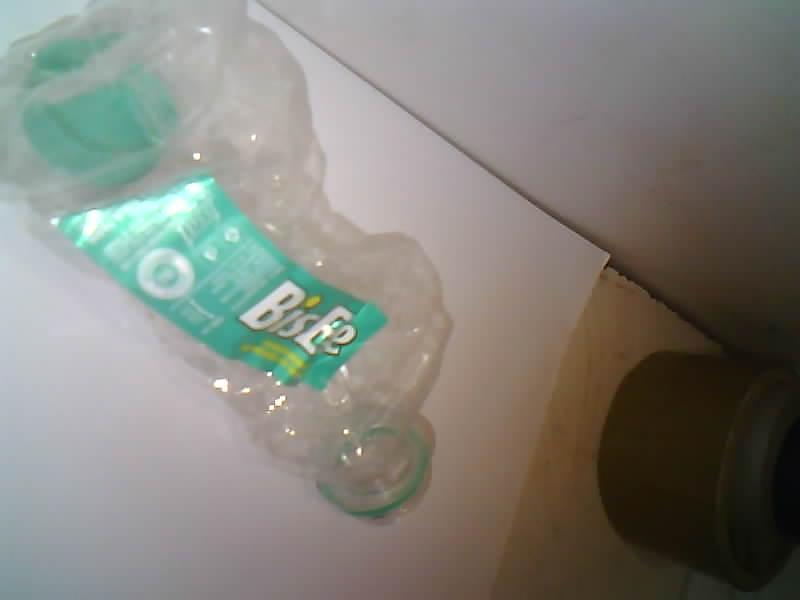non-biodegradable: (0, 0, 449, 516)
